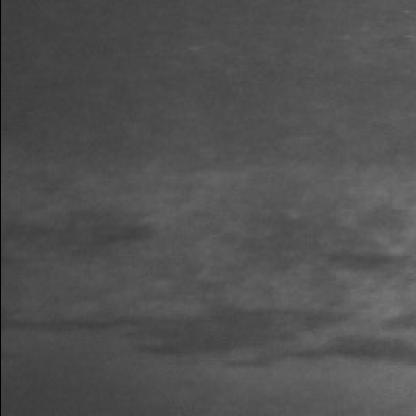inclusion: (0, 298, 410, 368), (248, 195, 410, 285), (0, 202, 158, 262)
